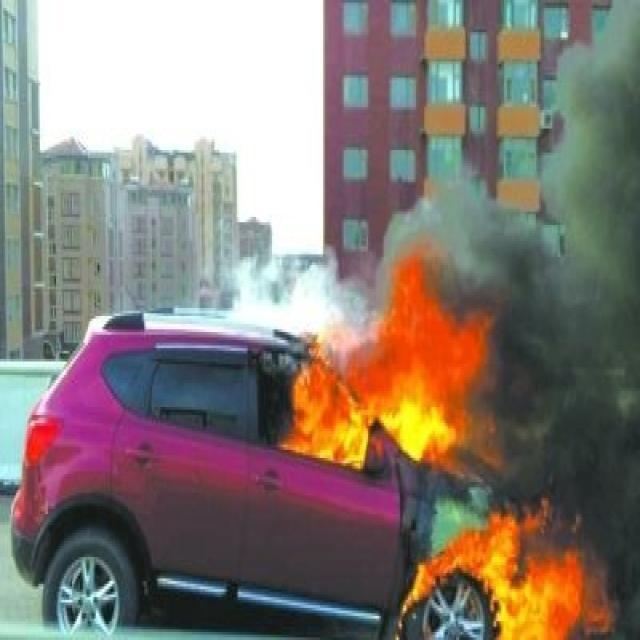fire: (282, 247, 501, 475), (405, 501, 610, 639)
smoke: (430, 0, 639, 639)
